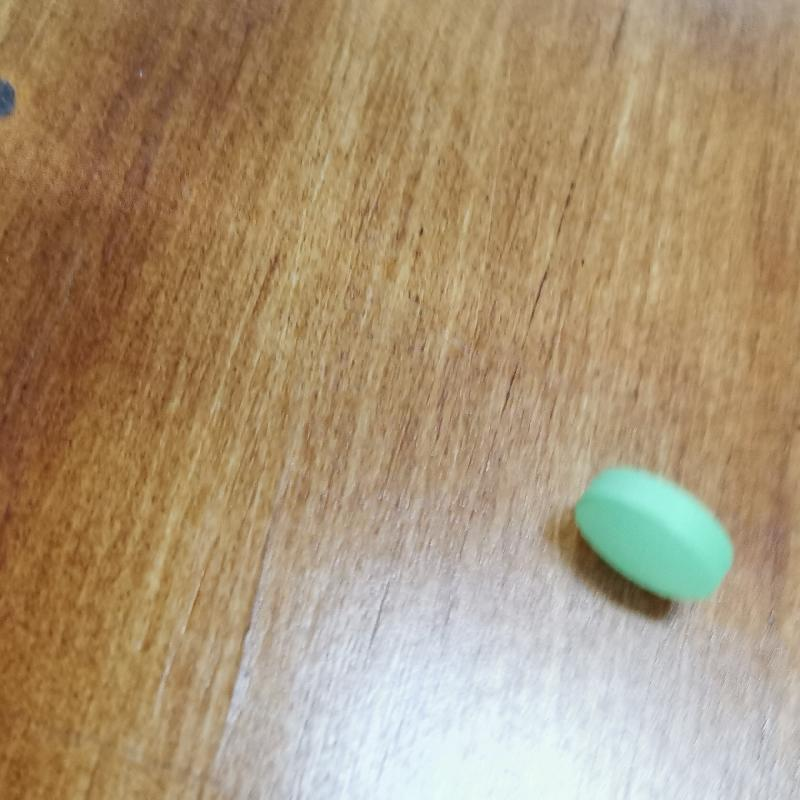pills: (572, 454, 740, 631)
